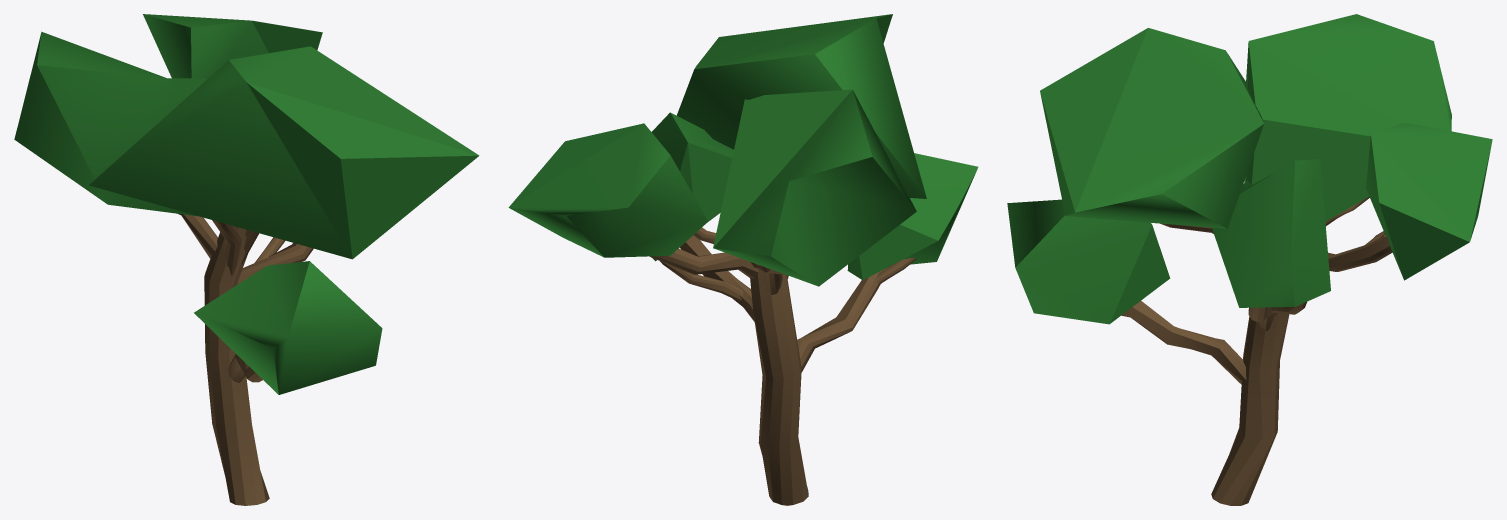
Rendered from SM_ENV_WideTree.fbx.
3 renders of one model, left to right at view 1: azimuth 30°, elevation 25°; view 2: azimuth 150°, elevation 25°; view 3: azimuth 270°, elevation 25°, orthographic. The views are drawn at different scales.
Visible parts, largest first — view 1: pPlatonic1, pasted__pasted__pPlatonic2, pasted__pasted__pasted__pPlatonic1, pCylinder1, pasted__pPlatonic1, pCylinder13, pCylinder6, pCylinder3, pCylinder7; view 2: pasted__pasted__pPlatonic2, pPlatonic1, pasted__pPlatonic1, pCylinder1, pasted__pasted__pasted__pPlatonic1, pasted__pasted__pPlatonic1, pCylinder7, pCylinder4, pCylinder13, pCylinder14; view 3: pPlatonic1, pasted__pasted__pPlatonic2, pasted__pasted__pasted__pPlatonic1, pasted__pPlatonic1, pasted__pasted__pPlatonic1, pCylinder1, pCylinder7, pCylinder4.
Boxes of the visible parts, left/top/right/bottom form: pPlatonic1: left=89, top=46, right=479, bottom=259; pasted__pasted__pPlatonic2: left=14, top=31, right=207, bottom=216; pasted__pasted__pasted__pPlatonic1: left=194, top=261, right=382, bottom=394; pCylinder1: left=204, top=226, right=269, bottom=505; pasted__pPlatonic1: left=143, top=14, right=322, bottom=78; pCylinder13: left=237, top=243, right=313, bottom=284; pCylinder6: left=178, top=213, right=217, bottom=258; pCylinder3: left=212, top=220, right=241, bottom=275; pCylinder7: left=228, top=354, right=262, bottom=382; pasted__pasted__pPlatonic2: left=713, top=89, right=916, bottom=286; pPlatonic1: left=677, top=14, right=926, bottom=198; pasted__pPlatonic1: left=508, top=123, right=708, bottom=257; pCylinder1: left=750, top=270, right=808, bottom=505; pasted__pasted__pasted__pPlatonic1: left=847, top=153, right=978, bottom=280; pasted__pasted__pPlatonic1: left=651, top=112, right=733, bottom=261; pCylinder7: left=797, top=266, right=889, bottom=372; pCylinder4: left=649, top=248, right=758, bottom=278; pCylinder13: left=680, top=235, right=754, bottom=321; pCylinder14: left=660, top=261, right=743, bottom=301; pPlatonic1: left=1040, top=28, right=1264, bottom=228; pasted__pasted__pPlatonic2: left=1244, top=14, right=1451, bottom=221; pasted__pasted__pasted__pPlatonic1: left=1007, top=199, right=1170, bottom=324; pasted__pPlatonic1: left=1366, top=122, right=1492, bottom=280; pasted__pasted__pPlatonic1: left=1212, top=159, right=1330, bottom=307; pCylinder1: left=1211, top=312, right=1289, bottom=505; pCylinder7: left=1121, top=301, right=1246, bottom=384; pCylinder4: left=1328, top=235, right=1392, bottom=271.
Size of the model in its own units: 1833 by 2616 by 2550.
